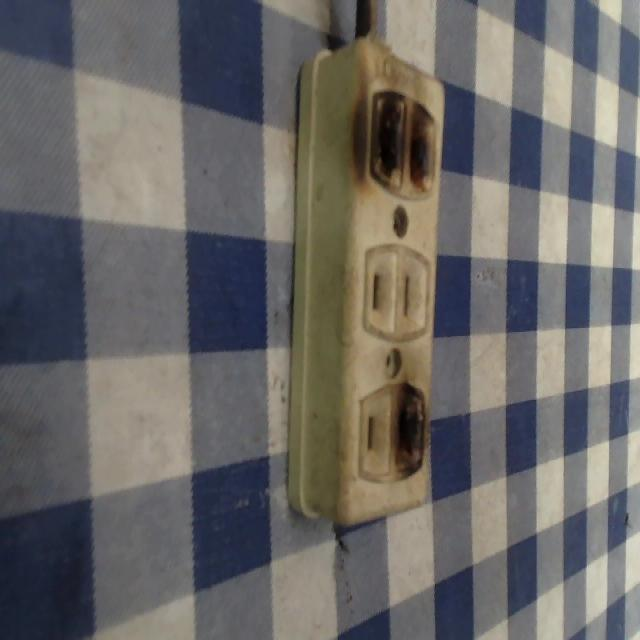-: (343, 74, 447, 202), (384, 374, 433, 486)
